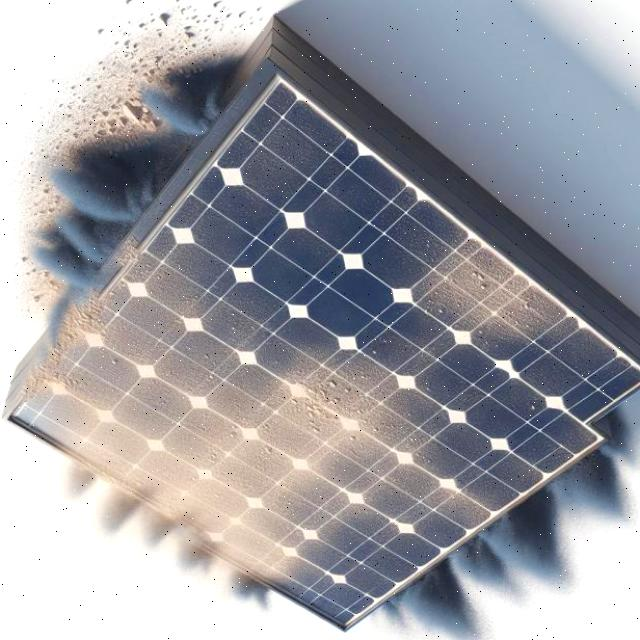Anomaly Solar Panel: (2, 76, 640, 640)
Surface Contaminant: (6, 77, 640, 640)
